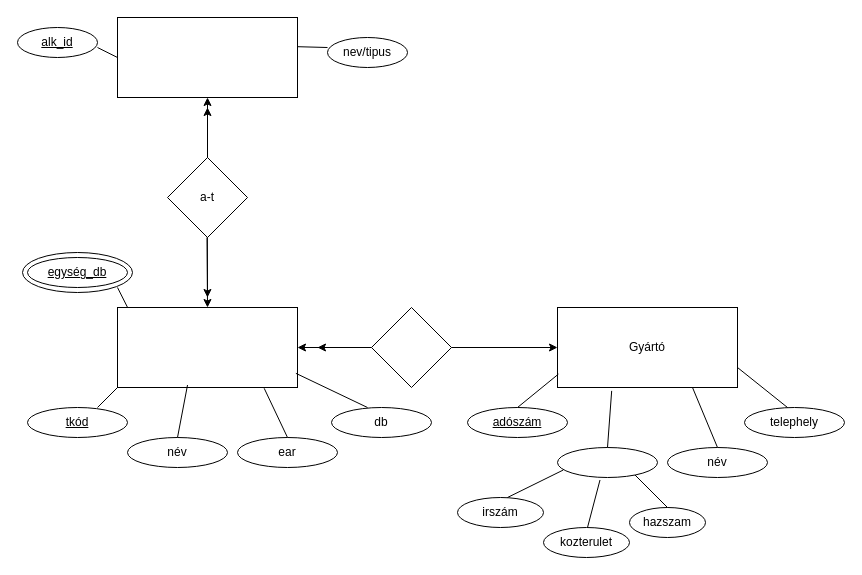
Some shapes in this 862 by 575 pixel diagram are drawn without their labels. Each missing label, with the centre of its shape:
Alkatrész: point (207, 57)
postaicím: point (607, 462)
t-gy: point (411, 347)
Termék: point (207, 347)
